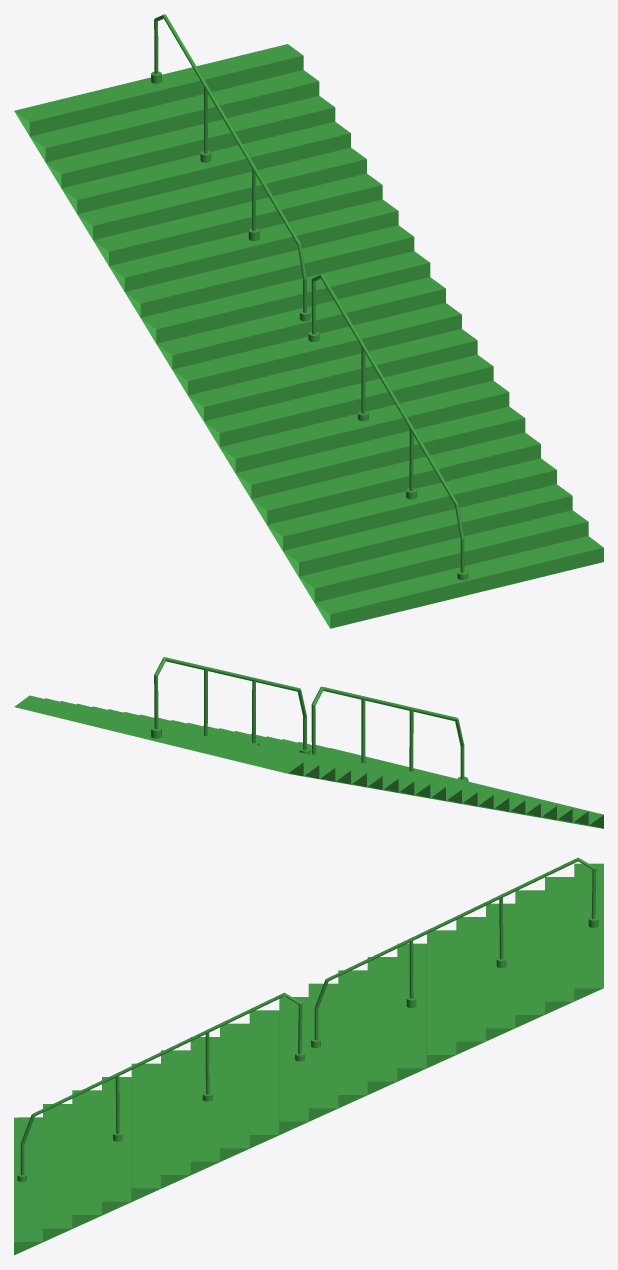
The model's file is ladder.FBX.
The picture shows the model from 3 angles, top to bottom: view 1: azimuth 30°, elevation 25°; view 2: azimuth 150°, elevation 25°; view 3: azimuth 270°, elevation 25°; orthographic projection. The views are drawn at different scales.
Visible parts, largest first — view 1: Plane051, Line056, Line052; view 2: Plane051, Line052, Line056; view 3: Plane051, Line052, Line056.
Part boxes in pixels (bbox=[...]): Plane051: bbox=[14, 44, 603, 628]; Line056: bbox=[308, 274, 468, 580]; Line052: bbox=[151, 14, 310, 321]; Plane051: bbox=[14, 695, 603, 828]; Line052: bbox=[151, 657, 310, 754]; Line056: bbox=[311, 686, 468, 781]; Plane051: bbox=[14, 863, 603, 1255]; Line052: bbox=[311, 857, 598, 1047]; Line056: bbox=[17, 992, 304, 1181].
Bounding box in the file's own units: 4 × 5.02 × 8.
